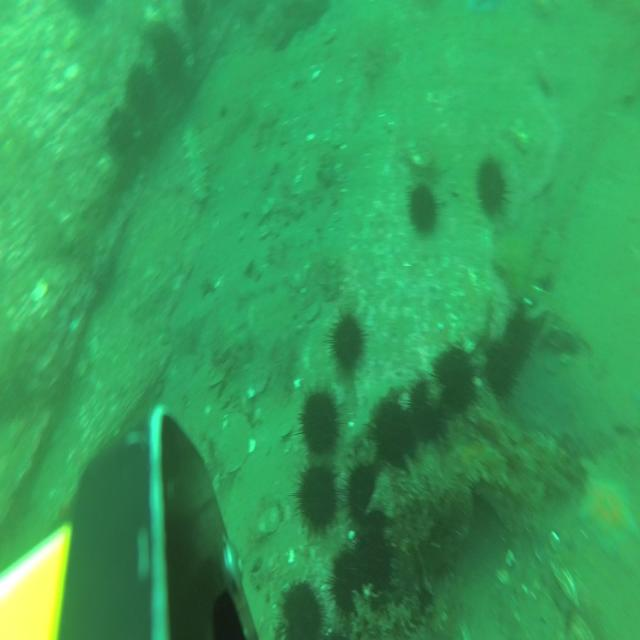echinus: (292, 388, 346, 467), (292, 457, 341, 542), (367, 394, 415, 476), (430, 343, 482, 418), (273, 576, 331, 640), (339, 457, 385, 536), (354, 527, 397, 602), (326, 306, 369, 377), (329, 543, 366, 620), (408, 386, 450, 452), (476, 153, 512, 223), (483, 340, 518, 402), (405, 180, 442, 238), (153, 26, 187, 88), (503, 308, 535, 369), (125, 59, 155, 118), (106, 103, 135, 154), (179, 0, 207, 28)
holothurian: (342, 366, 421, 458), (182, 120, 213, 204)
scallop: (219, 414, 253, 474), (257, 504, 281, 534)
starfish: (578, 469, 640, 557)
